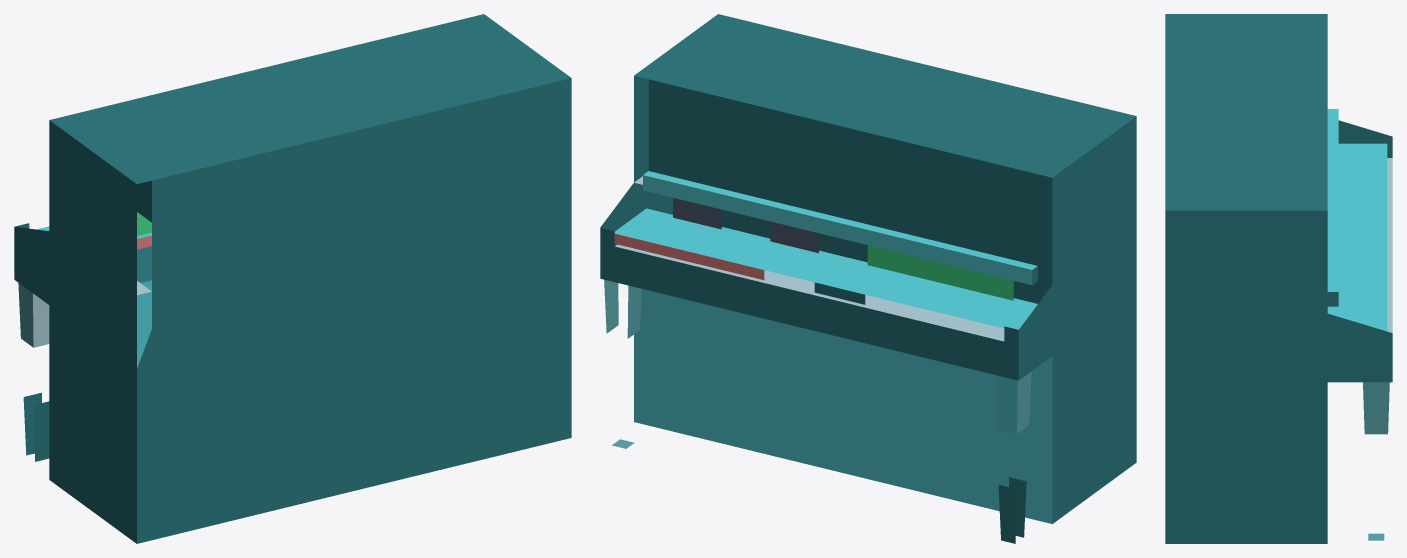
The model's file is piano2.obj.
3 renders of one model, left to right at view 1: azimuth 30°, elevation 25°; view 2: azimuth 150°, elevation 25°; view 3: azimuth 270°, elevation 25°, orthographic. The views are drawn at different scales.
Visible parts, largest first — view 1: piano; view 2: piano, keys; view 3: piano, keys.
Boxes of the visible parts, left/top/right/bottom form: piano: left=14, top=14, right=571, bottom=543; piano: left=600, top=14, right=1136, bottom=543; keys: left=614, top=208, right=1037, bottom=334; piano: left=1165, top=14, right=1392, bottom=543; keys: left=1327, top=143, right=1387, bottom=331.
Bounding box in the file's own units: 0.5375 × 0.425 × 0.2625.
Materials: 1 (1 with a texture image).
